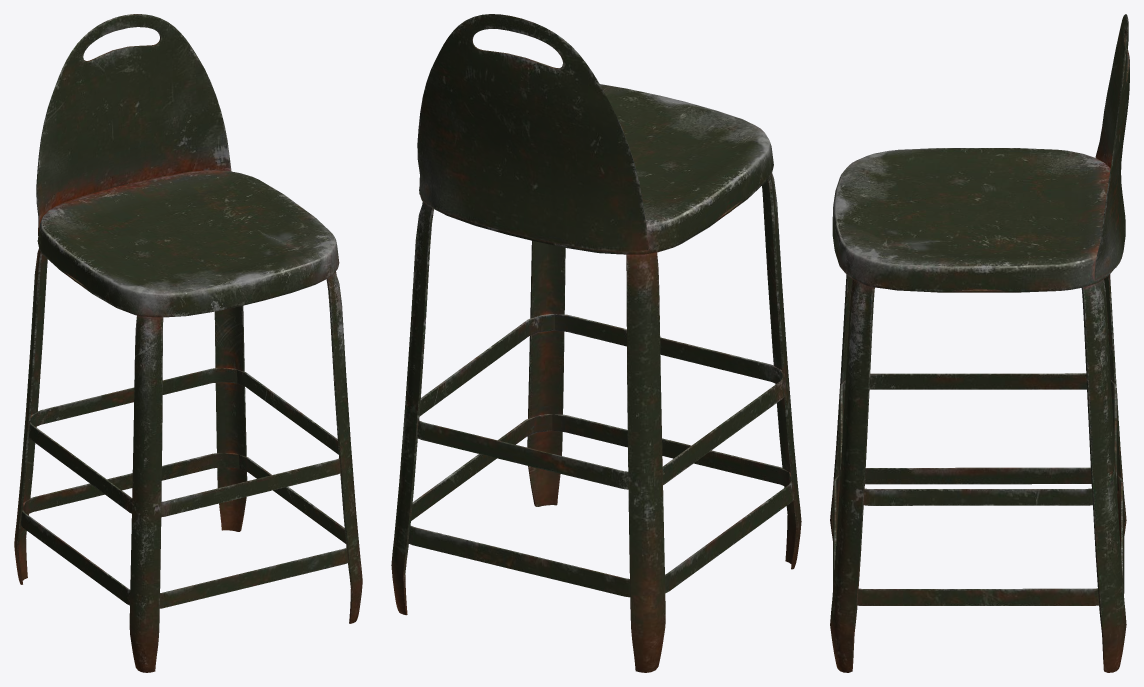
The model's file is ph_metal_stool_03.glb.
3 renders of one model, left to right at view 1: azimuth 30°, elevation 25°; view 2: azimuth 150°, elevation 25°; view 3: azimuth 270°, elevation 25°, orthographic. The views are drawn at different scales.
Visible parts, largest first — view 1: ph_metal_stool_03; view 2: ph_metal_stool_03; view 3: ph_metal_stool_03.
Boxes of the visible parts, x1,y1,x2,y2 form: ph_metal_stool_03: [14, 14, 362, 672]; ph_metal_stool_03: [391, 14, 801, 672]; ph_metal_stool_03: [830, 14, 1129, 672].
Size of the model in its own units: 0.4606 by 1.02 by 0.4706.
Materials: 1 (1 with a texture image).
